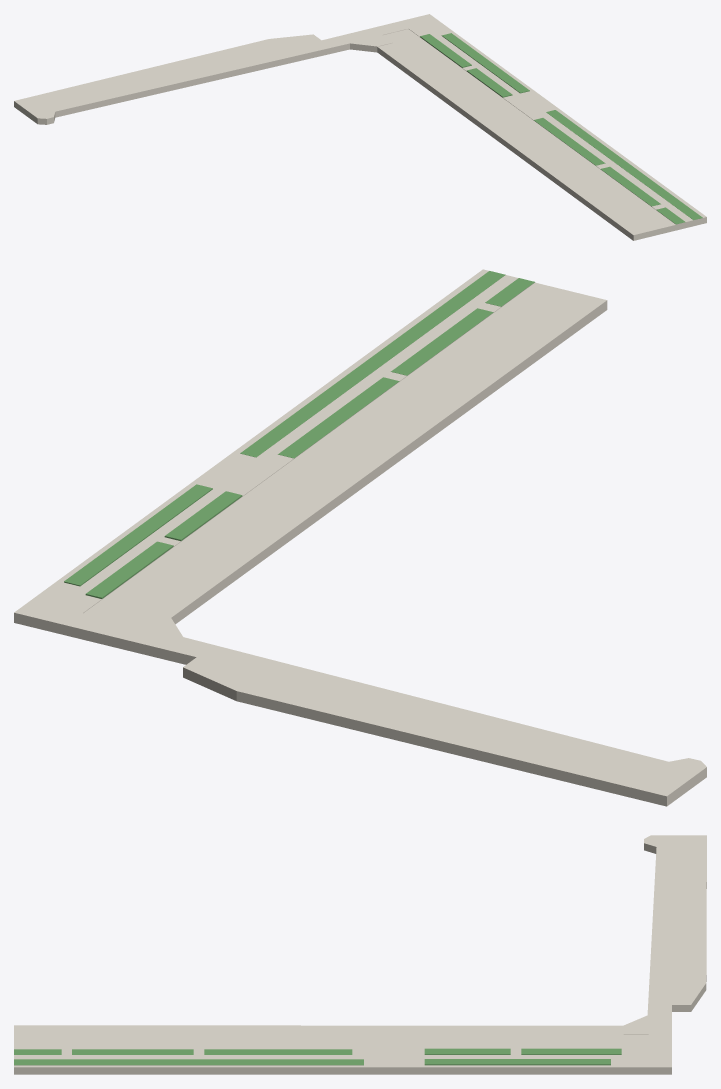
The model's file is SM_Blockout_Passeggiata_Pav_v4.fbx.
3 views of the same model, one above another, from view 1: azimuth 30°, elevation 25°; view 2: azimuth 150°, elevation 25°; view 3: azimuth 270°, elevation 25° (orthographic). The views are drawn at different scales.
Visible parts, largest first — view 1: SM_Blockout_PassPav_v4_Lastra, SM_Blockout_PassPav_v4_Molo, SM_Blockout_PassPav_v4_Aiuole; view 2: SM_Blockout_PassPav_v4_Lastra, SM_Blockout_PassPav_v4_Molo, SM_Blockout_PassPav_v4_Aiuole; view 3: SM_Blockout_PassPav_v4_Lastra, SM_Blockout_PassPav_v4_Molo, SM_Blockout_PassPav_v4_Aiuole.
Boxes of the visible parts, x1,y1,x2,y2 form: SM_Blockout_PassPav_v4_Lastra: (322,14,706,240); SM_Blockout_PassPav_v4_Molo: (14,34,331,124); SM_Blockout_PassPav_v4_Aiuole: (420,33,702,224); SM_Blockout_PassPav_v4_Lastra: (14,269,607,664); SM_Blockout_PassPav_v4_Molo: (183,645,706,806); SM_Blockout_PassPav_v4_Aiuole: (64,271,534,598); SM_Blockout_PassPav_v4_Lastra: (14,1005,671,1074); SM_Blockout_PassPav_v4_Molo: (644,835,706,1011); SM_Blockout_PassPav_v4_Aiuole: (14,1048,621,1065).
Size of what is drawn, in the model's own units: 20780 by 26230 by 340.
